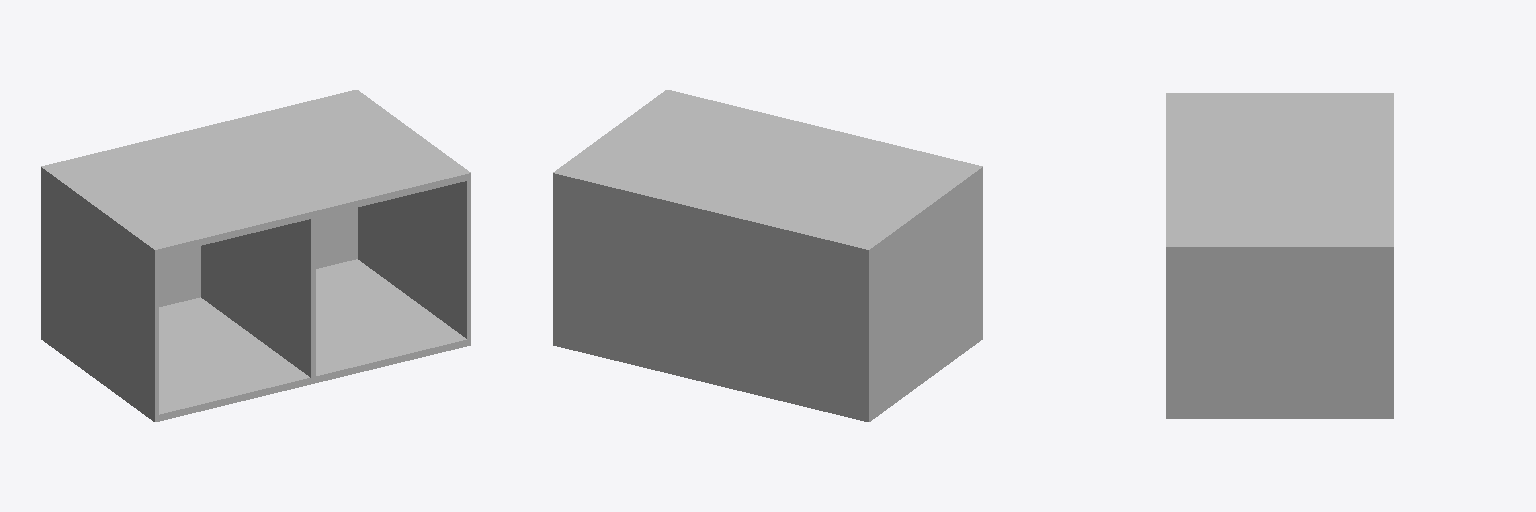
Rendered from house29.obj.
The picture shows the model from 3 angles: view 1: azimuth 30°, elevation 25°; view 2: azimuth 150°, elevation 25°; view 3: azimuth 270°, elevation 25°; orthographic projection.
Parts seen in each view (by area): view 1: 立方体.033; view 2: 立方体.033; view 3: 立方体.033.
Boxes of the visible parts, x1=… form: 立方体.033: x1=41, y1=90, x2=470, y2=421; 立方体.033: x1=553, y1=90, x2=982, y2=421; 立方体.033: x1=1166, y1=93, x2=1393, y2=418.
Bounding box in the file's own units: 9.6 × 5 × 6.